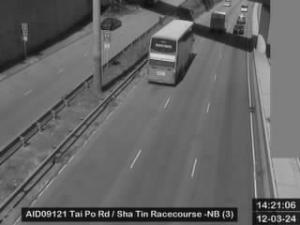bus: (148, 18, 196, 86)
truck: (212, 12, 226, 32)
vehicle: (102, 18, 120, 30), (234, 26, 244, 34), (237, 14, 245, 24), (240, 5, 248, 10), (226, 1, 230, 6)
